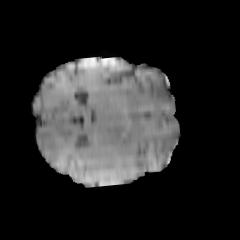glioma: (70, 125, 147, 185)
